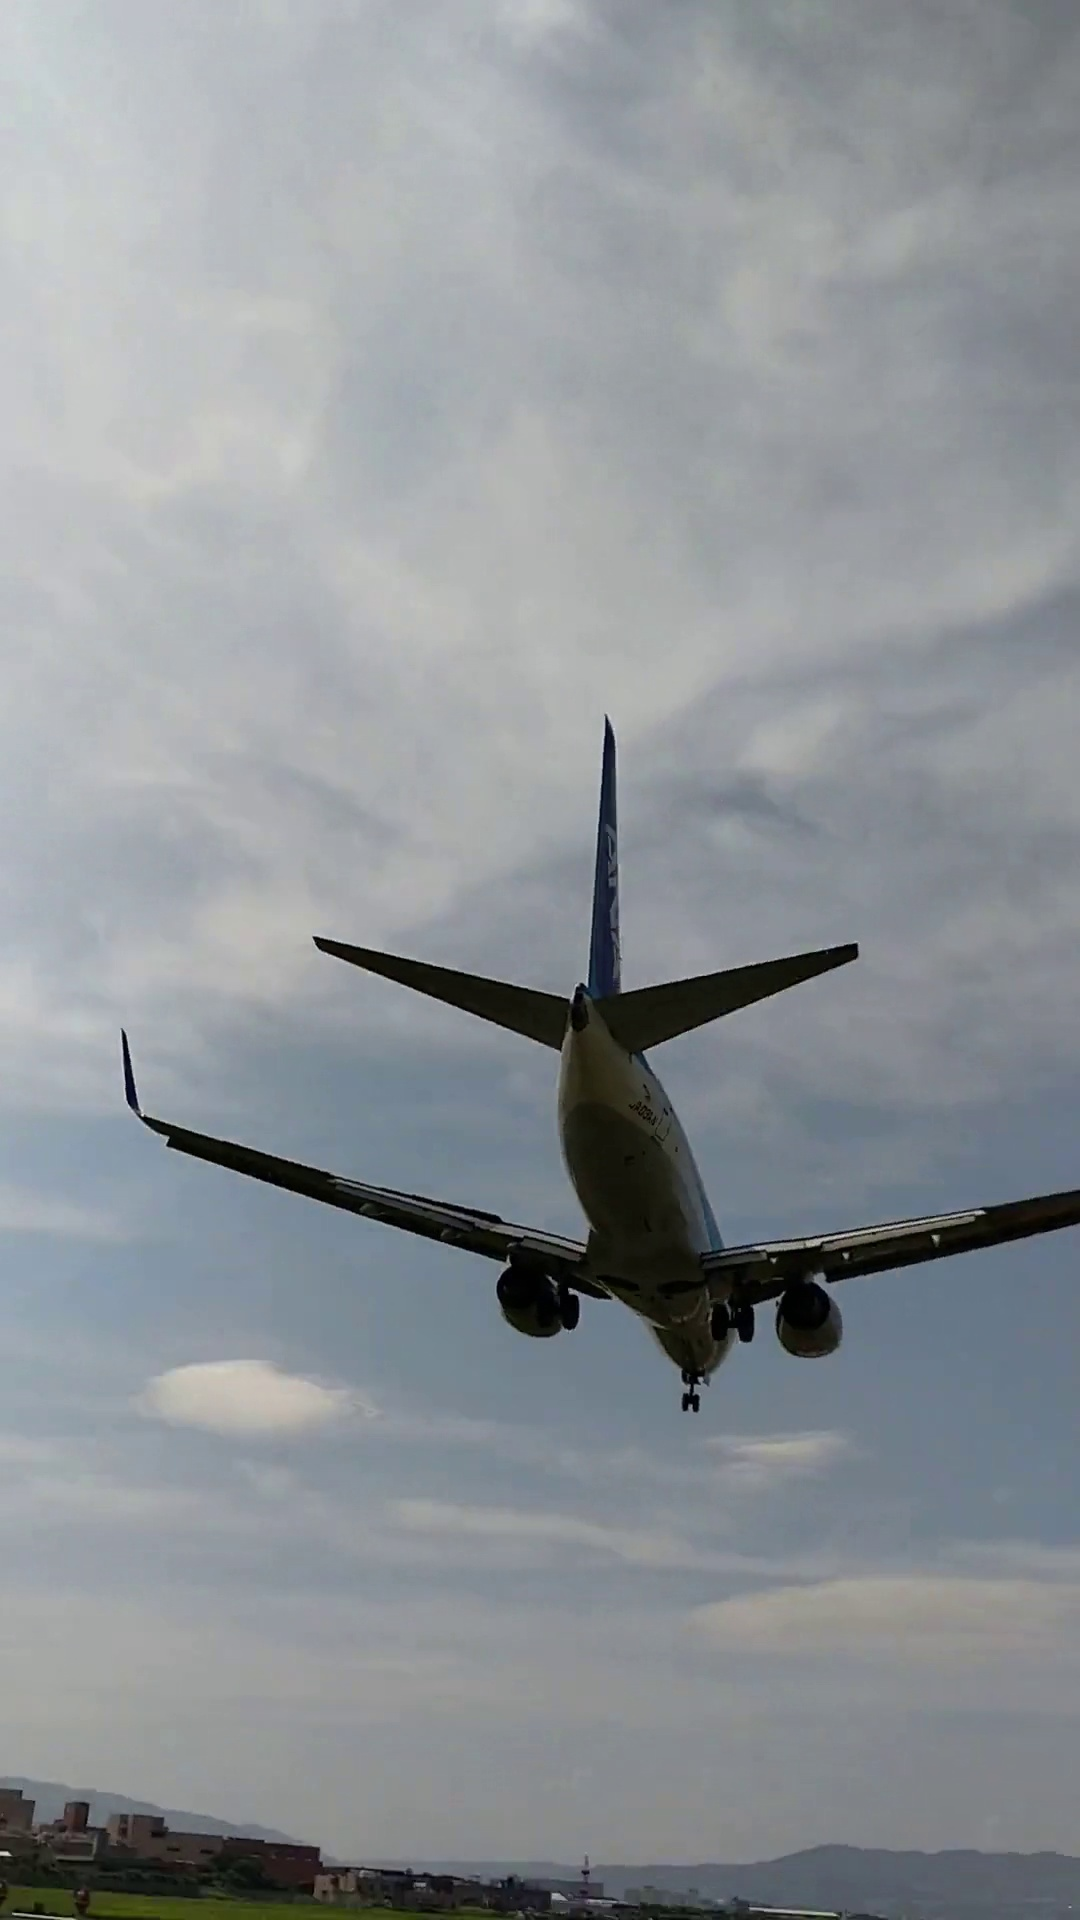plane: (123, 711, 1079, 1419)
